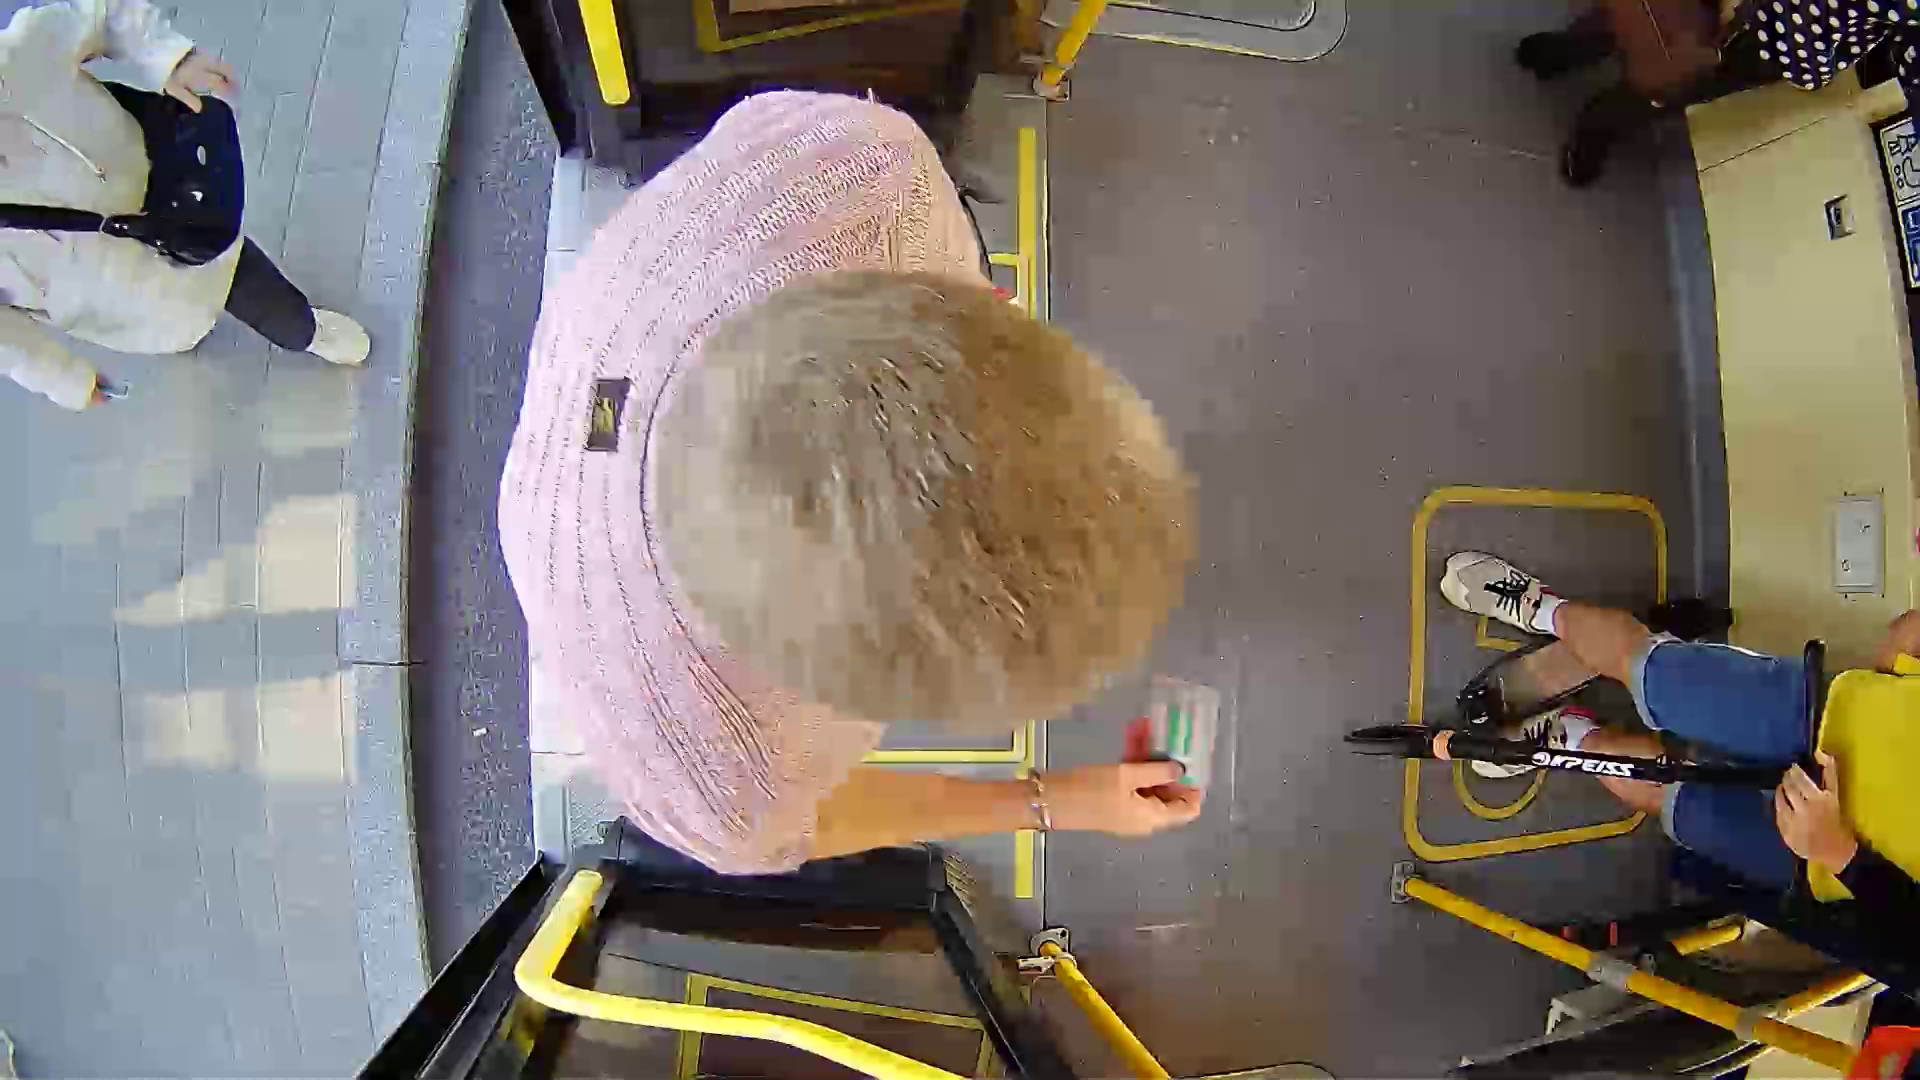person: (439, 22, 1260, 861)
